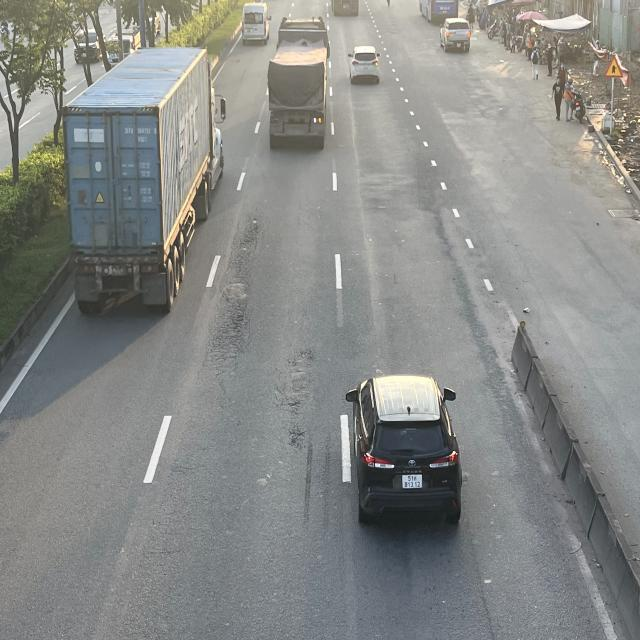car: (342, 372, 461, 525), (349, 46, 381, 86), (440, 16, 470, 52)
container: (66, 47, 224, 319), (267, 19, 331, 151)
van: (240, 1, 271, 44)
